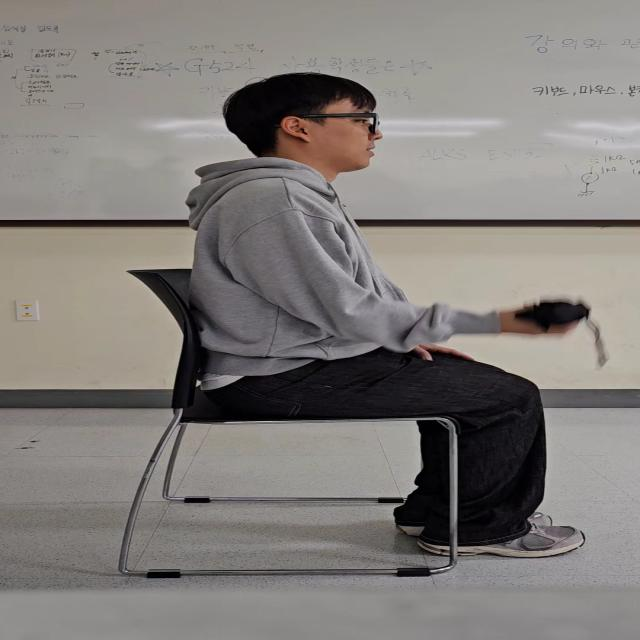curl: (214, 192, 588, 353)
